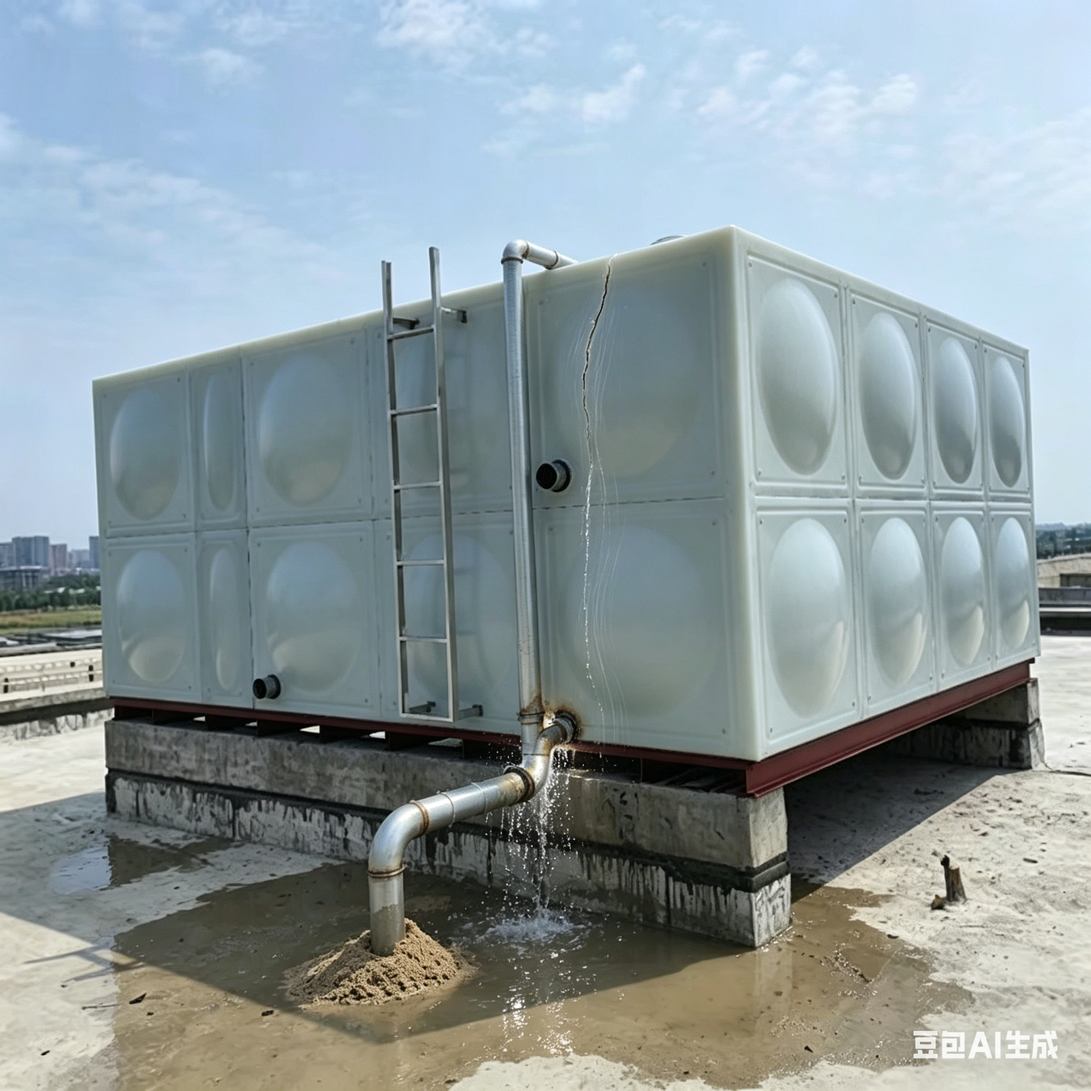Leakage: (116, 894, 483, 1087), (622, 904, 967, 1087), (493, 712, 606, 1059), (550, 431, 646, 722), (275, 854, 471, 894), (52, 848, 183, 880)
